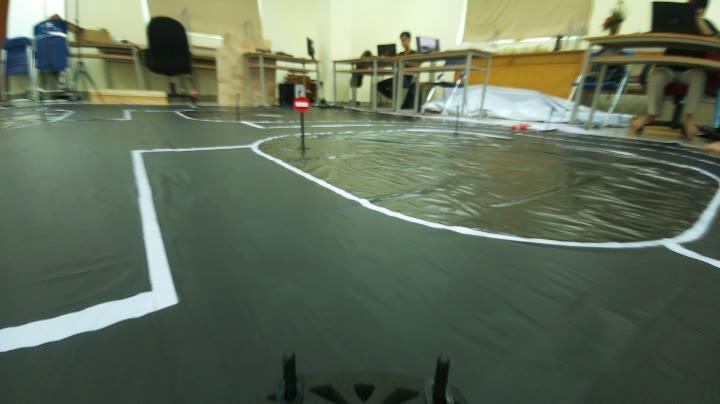no_entry: (290, 94, 314, 117)
